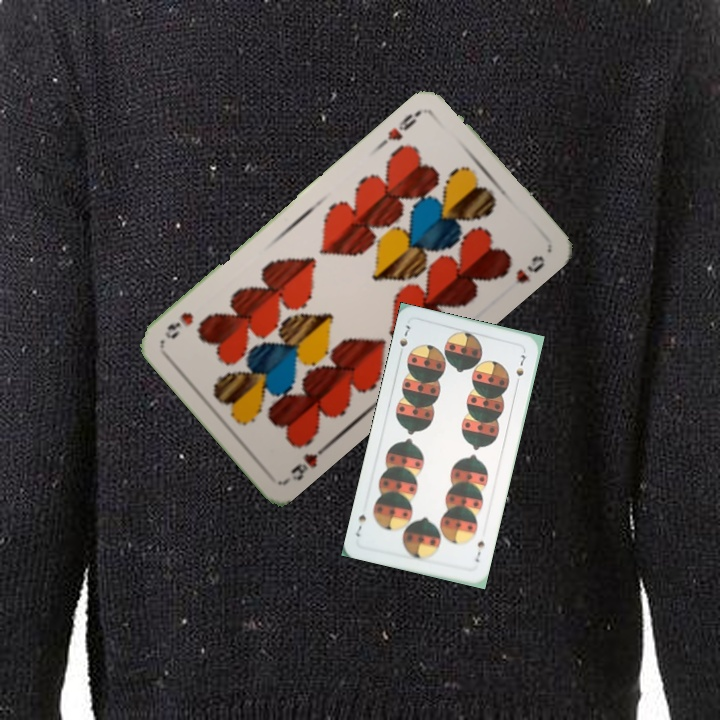H9: (282, 440, 332, 484), (376, 106, 424, 149)
S7: (395, 320, 413, 359), (471, 537, 487, 565)
